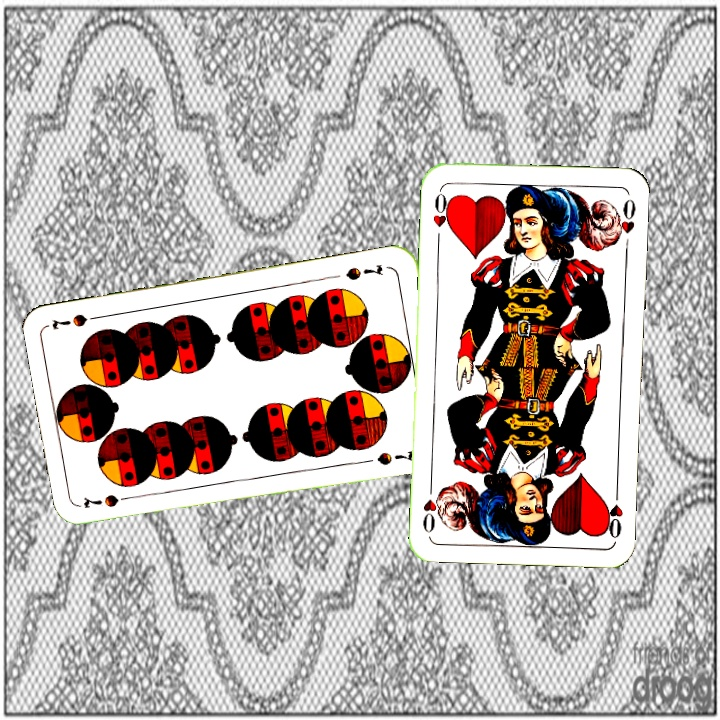HO: (428, 186, 454, 245), (602, 483, 626, 542)
S7: (79, 490, 137, 511), (342, 260, 386, 283)
